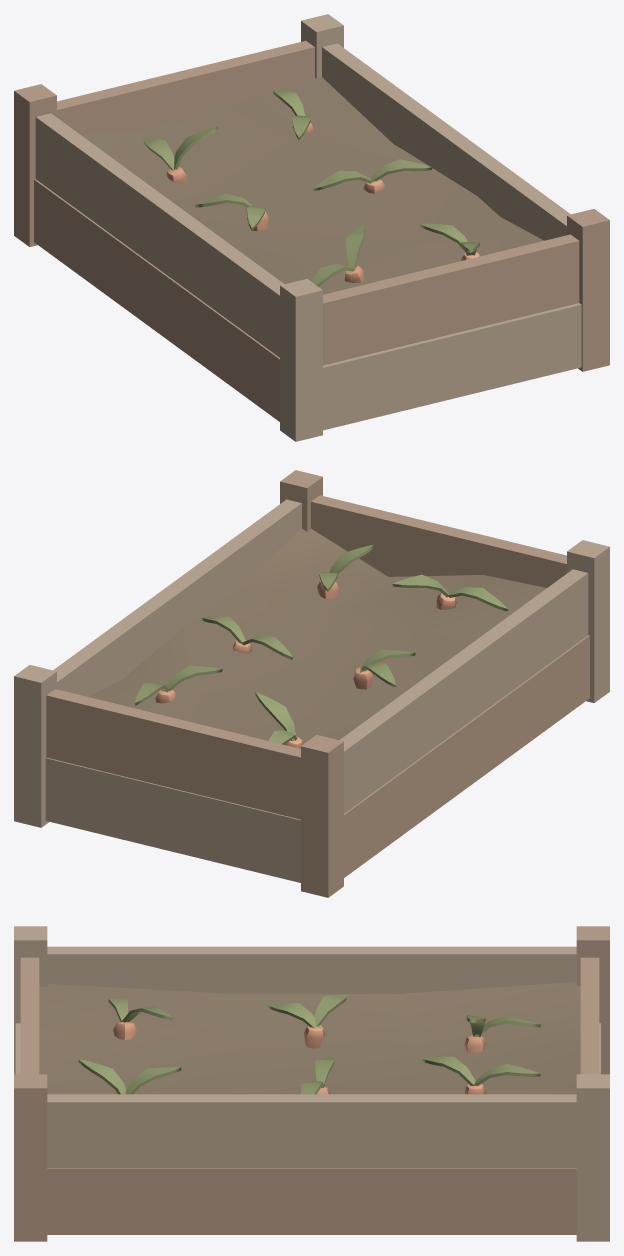
File: planterBox02.fbx
3 views of the same model, one above another, from view 1: azimuth 30°, elevation 25°; view 2: azimuth 150°, elevation 25°; view 3: azimuth 270°, elevation 25° (orthographic). The views are drawn at different scales.
Parts seen in each view (by area): view 1: dirt1, planterBoard06, planterBoard04, planterBoard03, planterBoard05, planterBoard07, planterBoard02, post01, post02, post03, post04, carrotLeaf02; view 2: dirt1, planterBoard06, planterBoard02, planterBoard01, planterBoard05, planterBoard07, planterBoard04, post03, post04, post01, post02, carrotLeaf02 (×2); view 3: dirt1, planterBoard07, planterBoard08, planterBoard06, post02, post04, post03, planterBoard02, planterBoard04, carrotLeaf01 (×4), post01, carrotLeaf02 (×3).
Part boxes in pixels (<box>): dirt1: <box>81,77,543,294</box>; planterBoard06: <box>35,113,284,357</box>; planterBoard04: <box>323,234,579,365</box>; planterBoard03: <box>323,303,581,430</box>; planterBoard05: <box>34,179,279,421</box>; planterBoard07: <box>322,43,570,240</box>; planterBoard02: <box>57,40,314,135</box>; post01: <box>280,279,322,441</box>; post02: <box>567,209,609,371</box>; post03: <box>14,84,56,246</box>; post04: <box>301,14,343,78</box>; carrotLeaf02: <box>370,159,432,181</box>; dirt1: <box>89,529,546,748</box>; planterBoard06: <box>339,569,588,813</box>; planterBoard02: <box>46,689,300,819</box>; planterBoard01: <box>45,757,300,882</box>; planterBoard05: <box>344,635,589,877</box>; planterBoard07: <box>53,499,301,696</box>; planterBoard04: <box>311,495,566,587</box>; post03: <box>301,735,343,897</box>; post04: <box>14,665,56,827</box>; post01: <box>567,540,609,702</box>; post02: <box>280,470,322,531</box>; carrotLeaf02 (×2): <box>255,587,508,741</box>; dirt1: <box>39,982,580,1094</box>; planterBoard07: <box>47,1094,576,1167</box>; planterBoard08: <box>47,1168,576,1234</box>; planterBoard06: <box>47,946,576,993</box>; post02: <box>14,1074,47,1241</box>; post04: <box>576,1074,609,1241</box>; post03: <box>576,926,609,1074</box>; planterBoard02: <box>580,957,599,1074</box>; planterBoard04: <box>20,957,39,1074</box>; carrotLeaf01 (×4): <box>78,1003,540,1094</box>; post01: <box>14,926,47,1074</box>; carrotLeaf02 (×3): <box>125,994,475,1094</box>.
Bounding box in the file's own units: 0.7607 × 0.3355 × 1.18.
